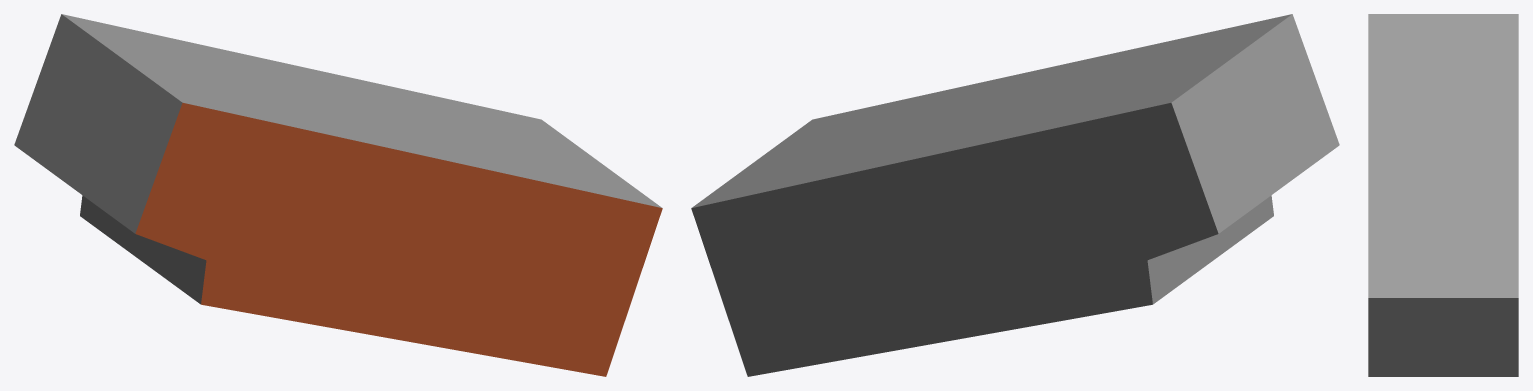
File: construction_1420_assumed_A_Casa_h6m.obj
3 views of the same model, side by side, from view 1: azimuth 30°, elevation 25°; view 2: azimuth 150°, elevation 25°; view 3: azimuth 270°, elevation 25° (orthographic). The views are drawn at different scales.
Parts seen in each view (by area): view 1: construction_1420_assumed_A_Casa; view 2: construction_1420_assumed_A_Casa; view 3: construction_1420_assumed_A_Casa.
Part boxes in pixels (x1,y1,x2,y2): construction_1420_assumed_A_Casa: [14, 14, 662, 376]; construction_1420_assumed_A_Casa: [691, 14, 1339, 376]; construction_1420_assumed_A_Casa: [1368, 14, 1518, 376].
Size of the model in its own units: 15.08 by 10.32 by 6.
